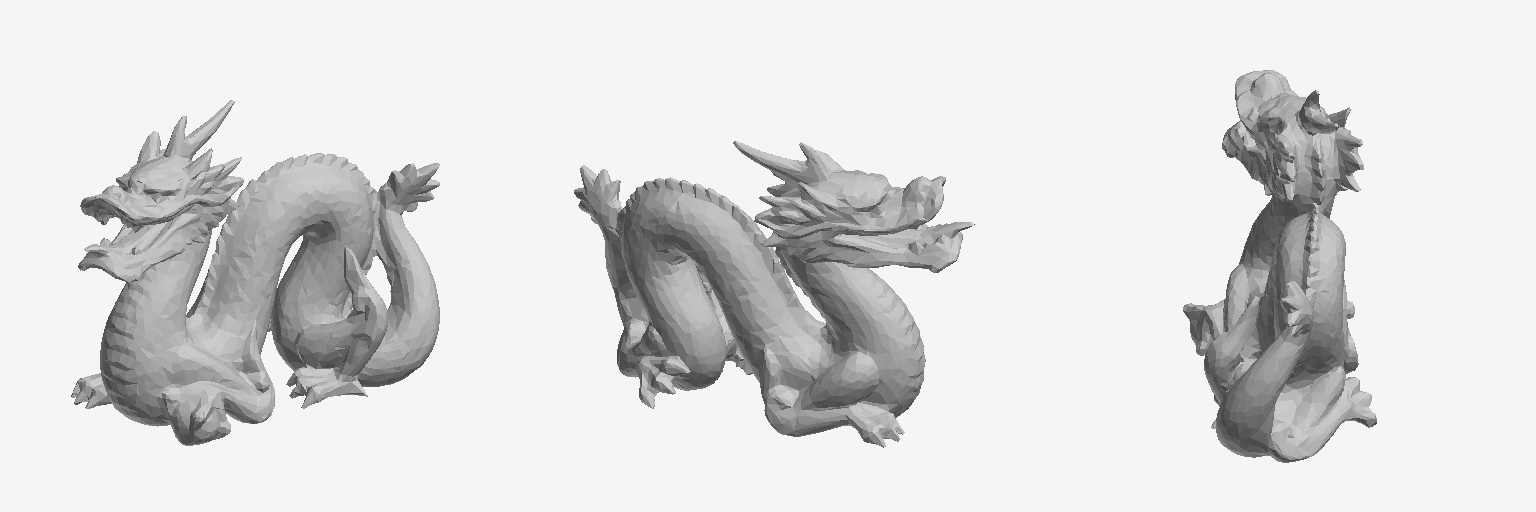
The model's file is Dragon.obj.
3 views of the same model, side by side, from view 1: azimuth 30°, elevation 25°; view 2: azimuth 150°, elevation 25°; view 3: azimuth 270°, elevation 25° (orthographic).
Parts seen in each view (by area): view 1: Mesh_dragon_10k; view 2: Mesh_dragon_10k; view 3: Mesh_dragon_10k.
Boxes of the visible parts, x1,y1,x2,y2 form: Mesh_dragon_10k: [71, 100, 439, 445]; Mesh_dragon_10k: [574, 141, 974, 447]; Mesh_dragon_10k: [1183, 70, 1376, 462].
Size of the model in its own units: 4.22 by 2.98 by 1.88.